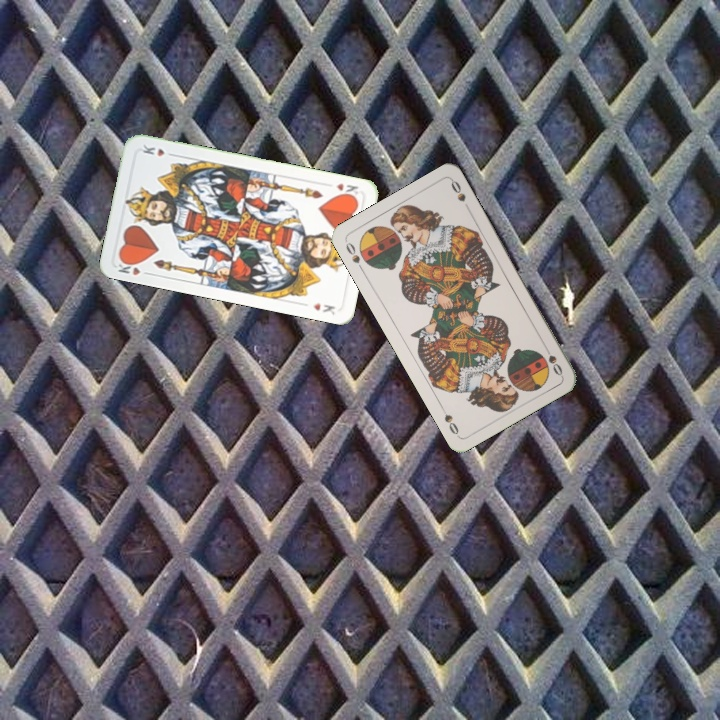HK: (114, 256, 153, 278), (332, 179, 361, 200)
SO: (539, 341, 565, 378), (341, 237, 366, 275)
